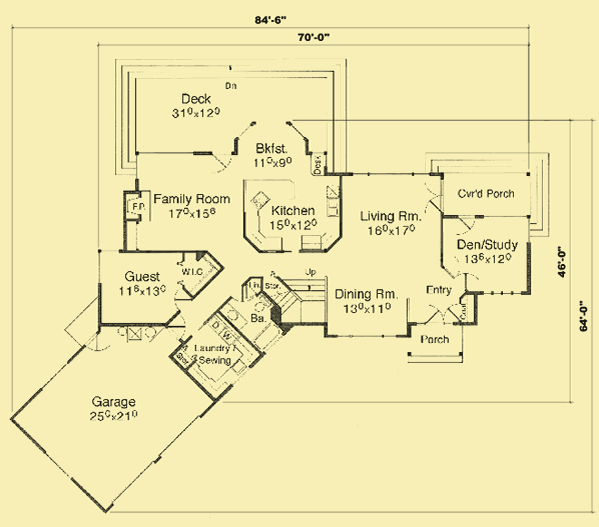bathroom has a small and large sink and tub: (223, 291, 286, 351)
guest bedroom has a walk in closet: (96, 249, 222, 327)
kitchen has a counter, cooking range: (237, 172, 349, 260)
laundry room has a washer and dryer: (173, 313, 263, 399)
stairs to the other floors: (268, 271, 331, 325)
this is a large garage outside: (15, 349, 177, 495)
